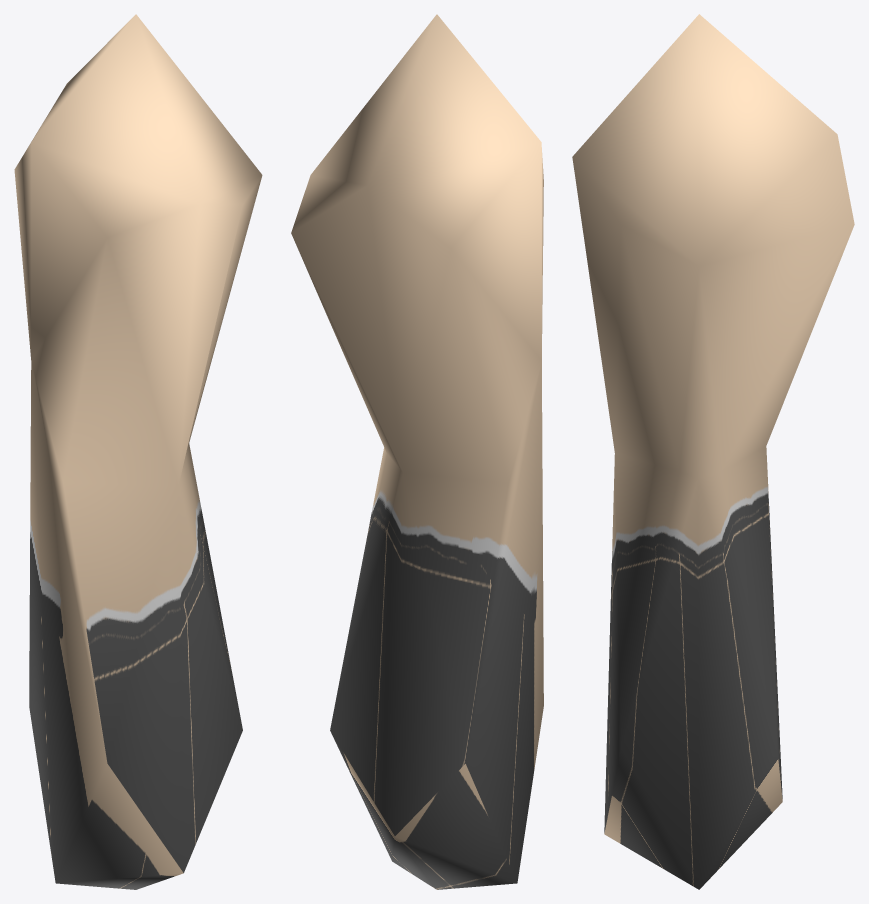
Rendered from playerLeftLeg.obj.
3 renders of one model, left to right at view 1: azimuth 30°, elevation 25°; view 2: azimuth 150°, elevation 25°; view 3: azimuth 270°, elevation 25°, orthographic.
Parts seen in each view (by area): view 1: 左足; view 2: 左足; view 3: 左足.
Boxes of the visible parts, x1,y1,x2,y2 form: 左足: [14, 14, 262, 889]; 左足: [291, 14, 543, 889]; 左足: [572, 14, 854, 889].
Size of the model in its own units: 0.7211 by 2.61 by 0.7662.
